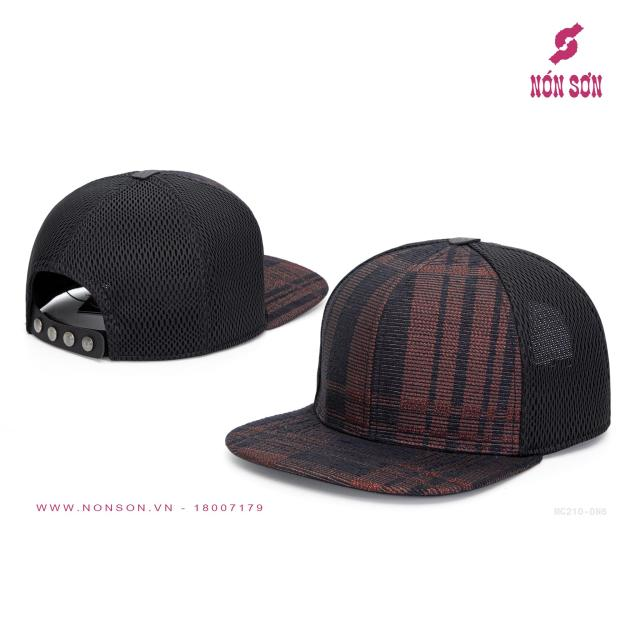Cap: (219, 231, 620, 498), (21, 164, 331, 366)
